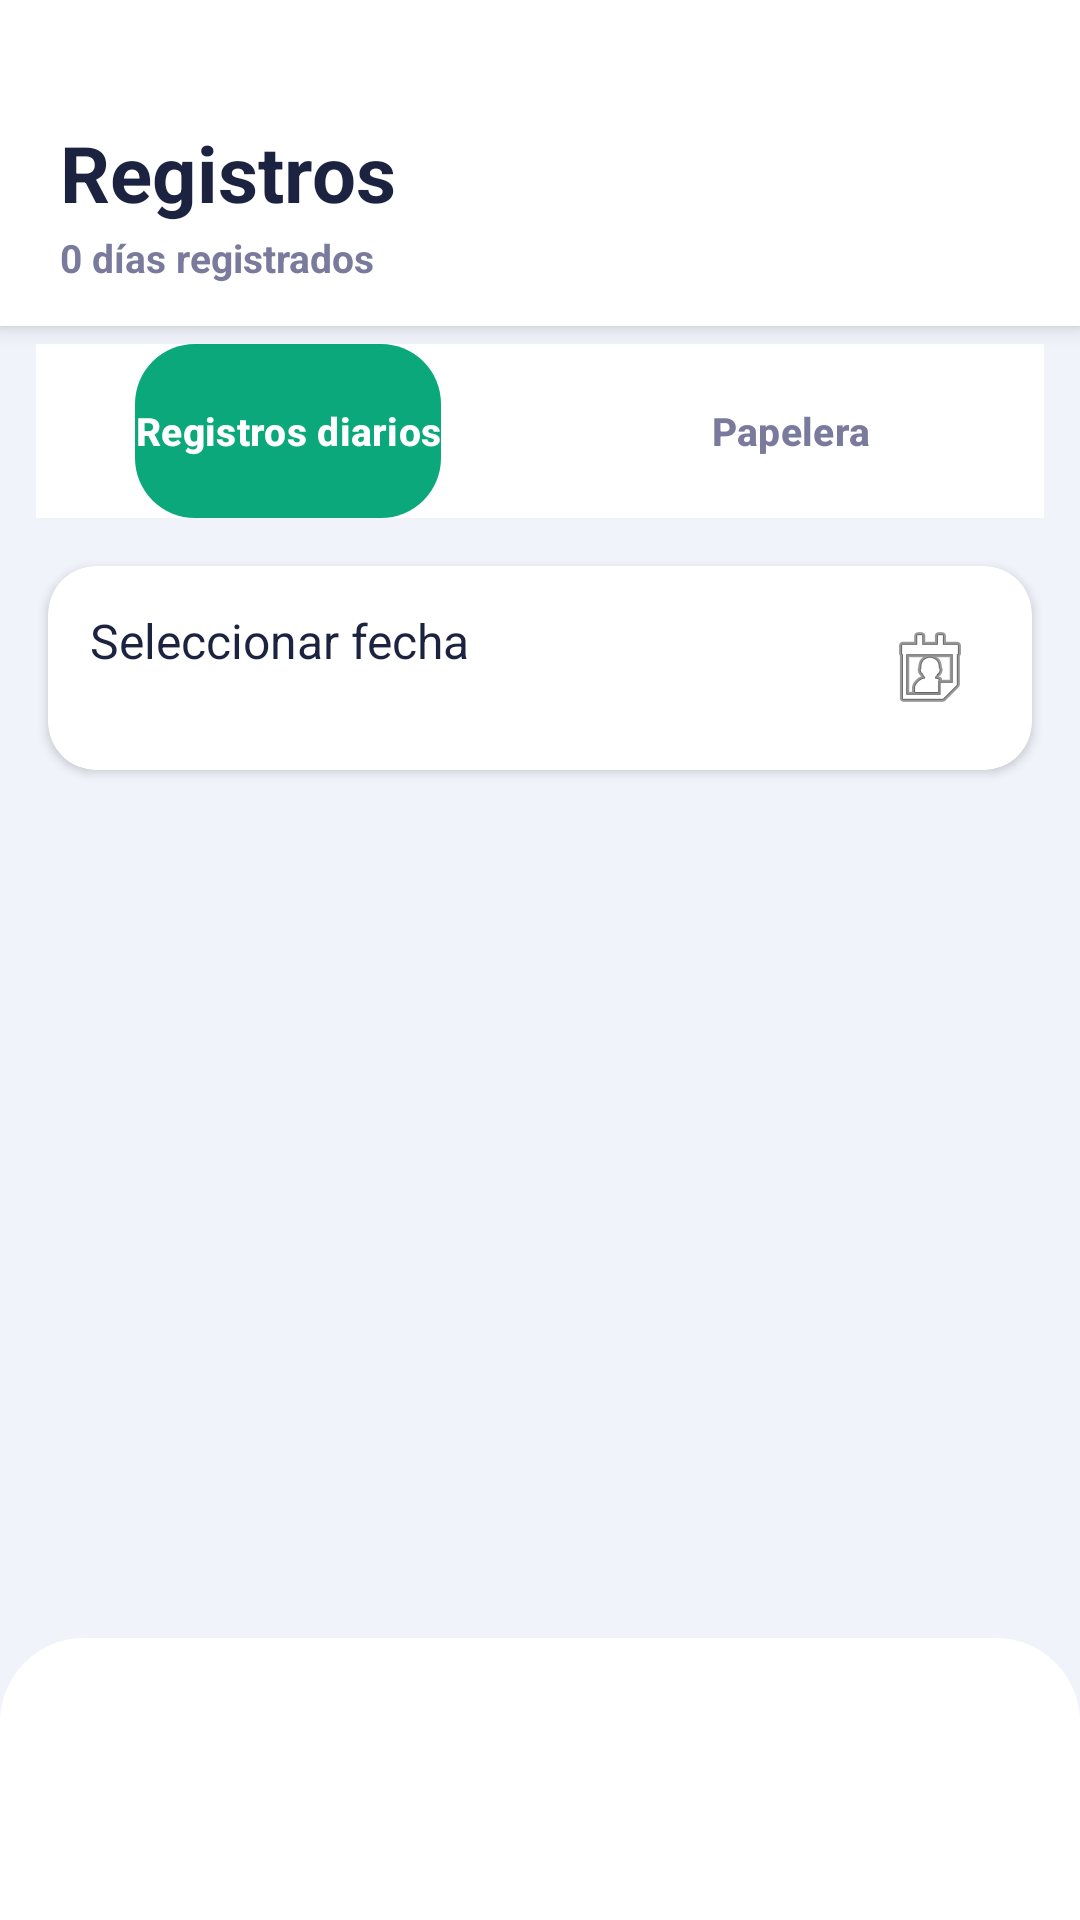

Screen size 1080 x 1920. Icon name, then its center in pixels as (x=x, y=y):
calendar: (x=930, y=667)
